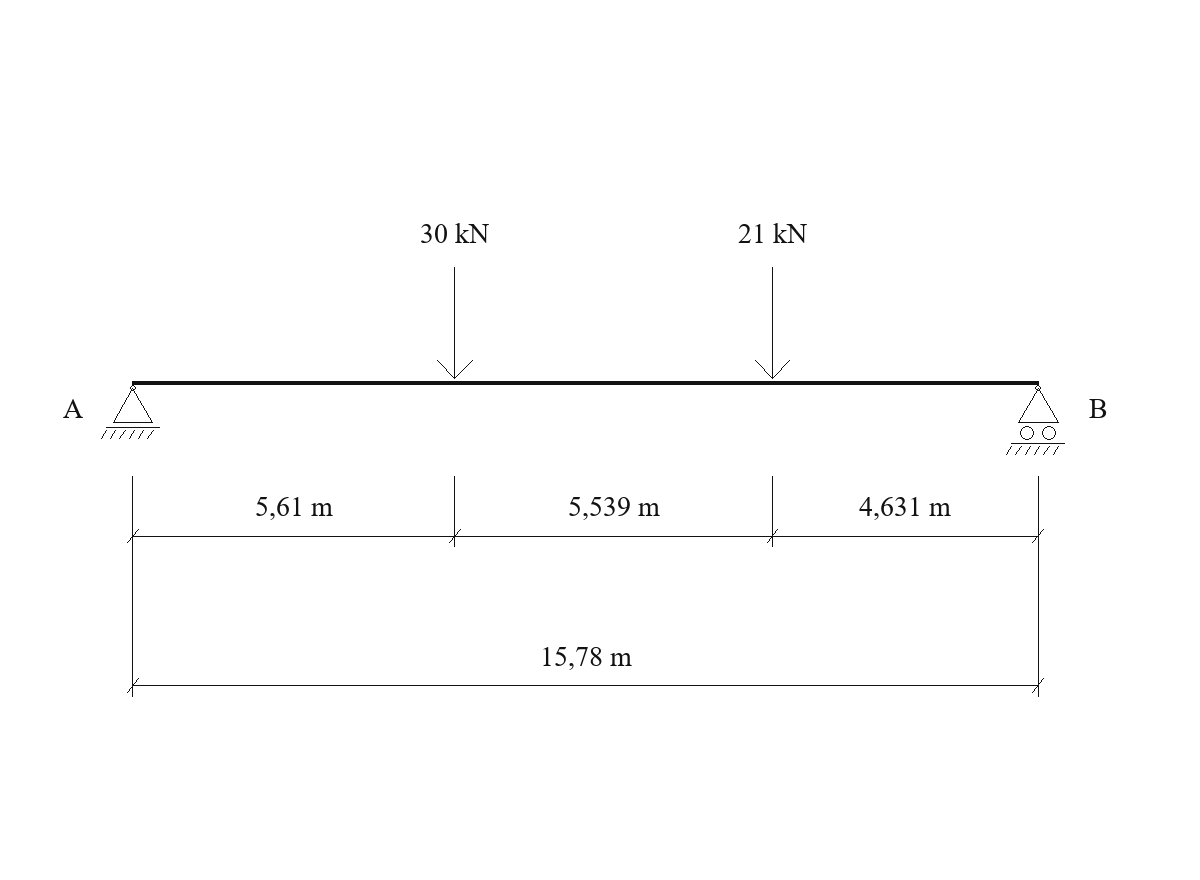pin_support: (101, 385, 160, 439)
point_load: (437, 267, 473, 379), (755, 267, 790, 379)
roller_support: (1006, 385, 1065, 455)
